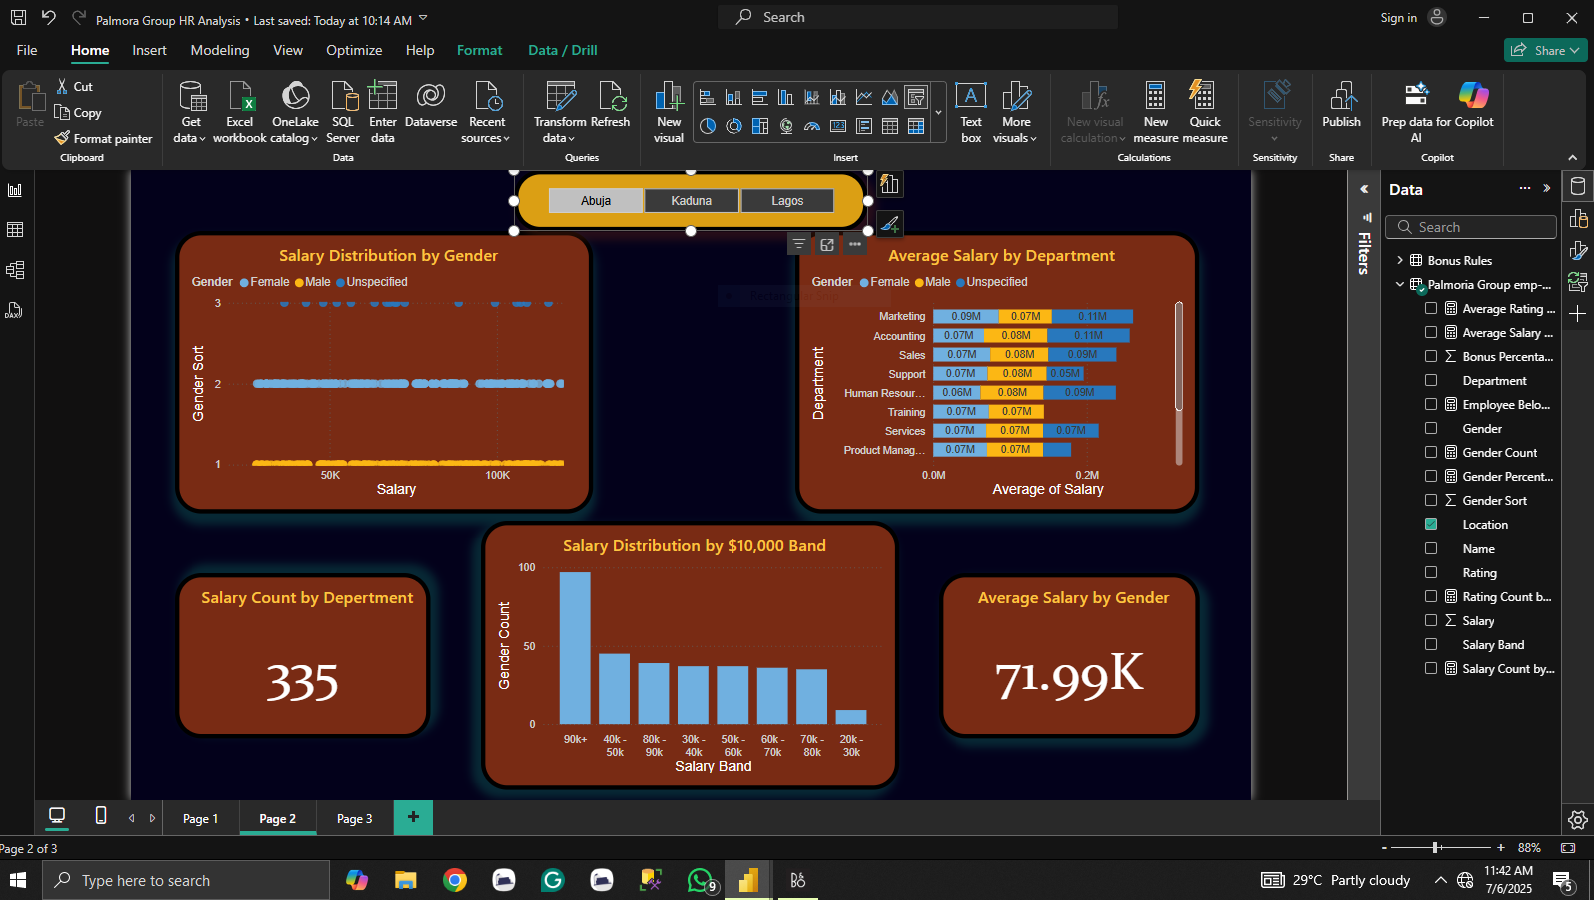

The page's visual inventory and layout, read from the dashboard file:
{"tool":"powerbi","page":{"name":"Page 2","canvas":[1280,720],"ordinal":1},"visuals":[{"type":"scatterChart","title":"Salary Distribution by Gender","fields":{"Y":["Palmoria Group emp-data (ORIGINAL).Gender Sort"],"X":["Palmoria Group emp-data (ORIGINAL).Salary"],"Series":["Palmoria Group emp-data (ORIGINAL).Gender"]},"box":[49.9,70.1,478.3,323.4],"z":0},{"type":"barChart","title":"Average Salary by Department","fields":{"Y":["Avg(Palmoria Group emp-data (ORIGINAL).Salary)"],"Series":["Palmoria Group emp-data (ORIGINAL).Gender"],"Category":["Palmoria Group emp-data (ORIGINAL).Department"]},"box":[758.6,70.1,462.1,323.4],"z":1000},{"type":"card","title":"Average Salary by Gender","fields":{"Values":["Palmoria Group emp-data (ORIGINAL).Average Salary by Gender"]},"box":[922.9,460.8,297.8,188.6],"z":2000},{"type":"card","title":"Salary Count by Depertment ","fields":{"Values":["Palmoria Group emp-data (ORIGINAL).Salary Count by Department and Region"]},"box":[49.9,460.8,292.4,188.6],"z":3000},{"type":"slicer","fields":{"Values":["Palmoria Group emp-data (ORIGINAL).Location"]},"box":[437.9,0,404.2,70.1],"z":4000},{"type":"clusteredColumnChart","title":"Salary Distribution by $10,000 Band","fields":{"Category":["Palmoria Group emp-data (ORIGINAL).Salary Band"],"Y":["Palmoria Group emp-data (ORIGINAL).Gender Count"]},"box":[400.2,401.5,478.3,307.2],"z":5000}]}

Visuals, with their boxes on the page's 1280x720 design canvas (x1, y1, x2, y2). These are canvas units, not pixel positions in the 1594x900 screenshot, which may show the page scaled, cropped or inside an application window:
"Salary Distribution by Gender" scatterChart: detection(50, 70, 528, 394)
"Average Salary by Department" barChart: detection(759, 70, 1221, 394)
"Average Salary by Gender" card: detection(923, 461, 1221, 649)
"Salary Count by Depertment " card: detection(50, 461, 342, 649)
slicer - Palmoria Group emp-data (ORIGINAL).Location: detection(438, 0, 842, 70)
"Salary Distribution by $10,000 Band" clusteredColumnChart: detection(400, 402, 878, 709)
